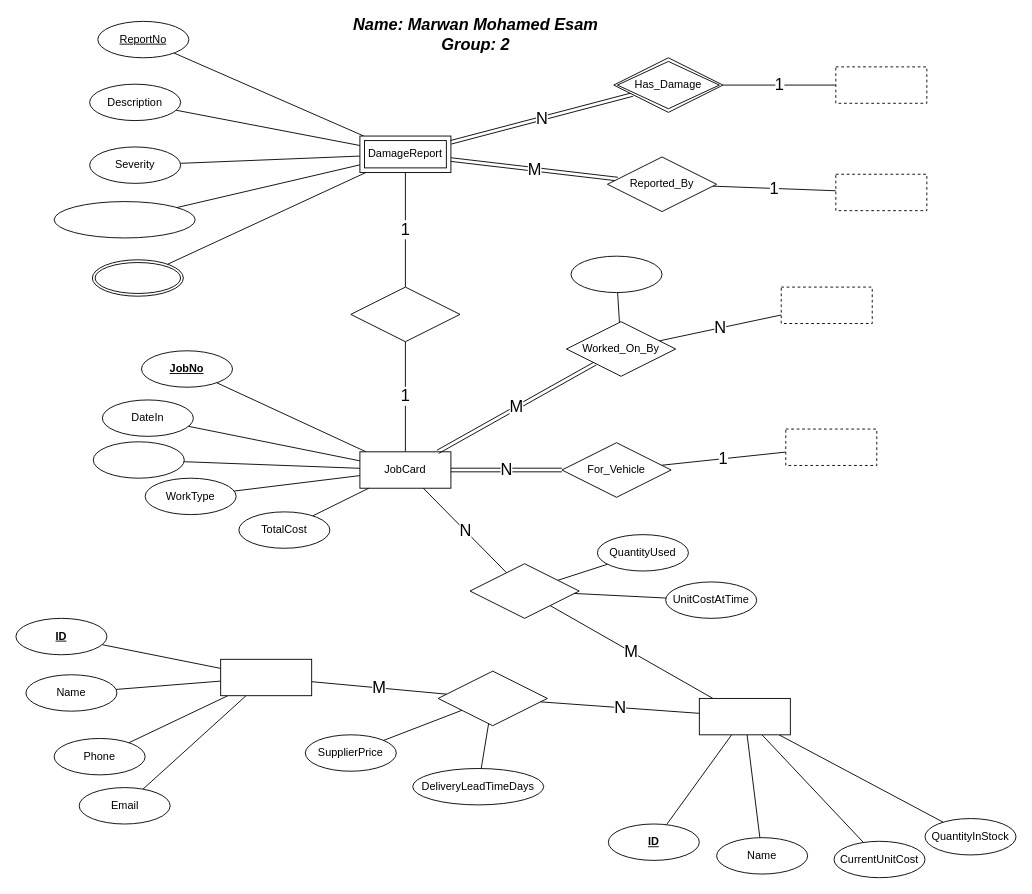
Image size: 1032x894. Some labels were removed from this diagram. The shapes that lost their labels are listed below. From the top down, each one's centre as x and y in pixels, then its label:
At (881,84): "Rental".
At (881,192): "RentalAgent".
At (124,219): "EstimatedRepairCost".
At (137,277): "PhotoLink".
At (616,274): "HoursSpent".
At (405,314): "Causes_Job".
At (826,305): "Mechanic".
At (138,459): "DateOut".
At (831,446): "Vehicle".
At (524,590): "Uses_Part".
At (266,677): "Supplier".
At (492,698): "Supplies_Part".
At (744,716): "Part".
